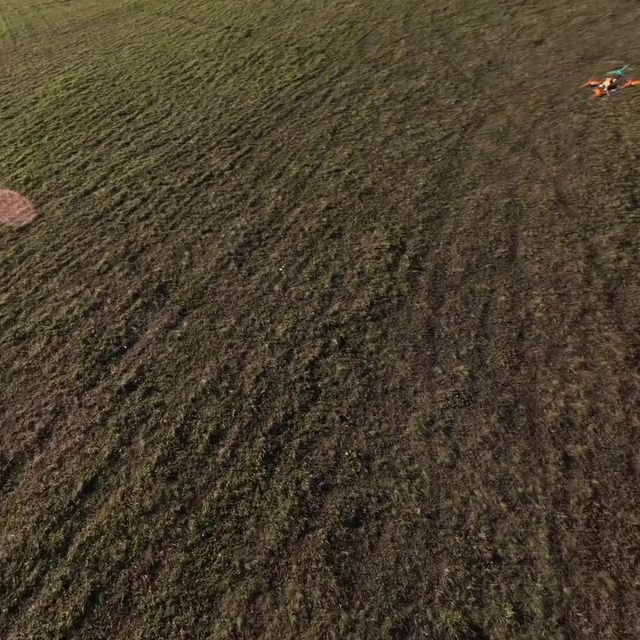drone: (582, 62, 640, 103)
